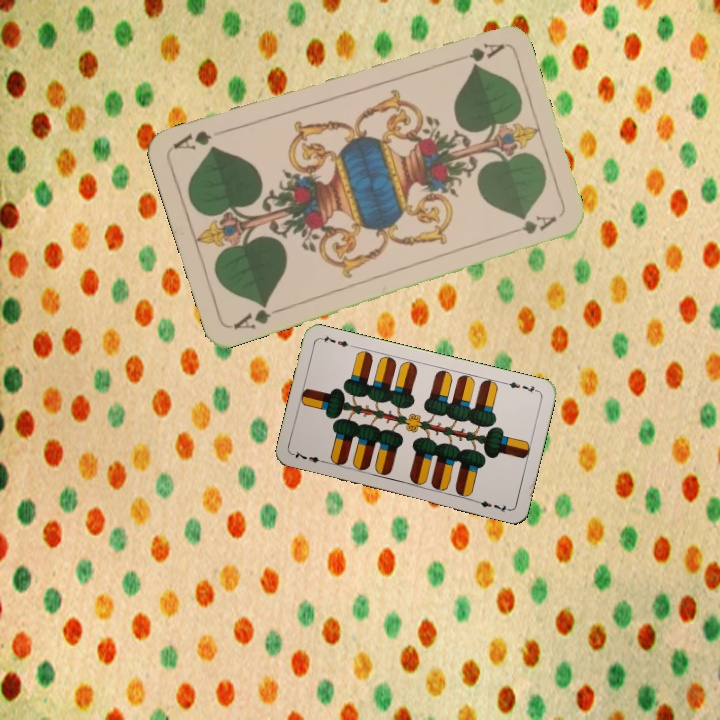E7: (289, 447, 330, 466), (501, 378, 541, 396)
GA: (229, 298, 285, 332), (447, 39, 506, 65)
